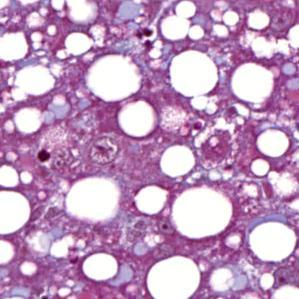steatosis: (146, 255, 202, 299), (0, 191, 33, 234), (80, 253, 119, 280)
